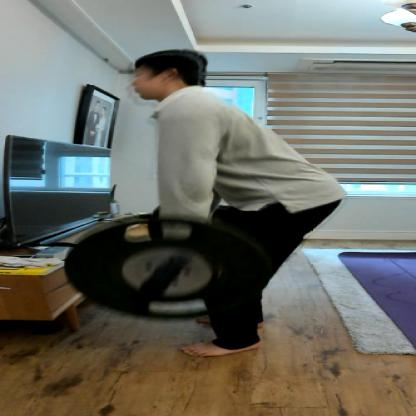Barbell: (59, 211, 281, 327)
